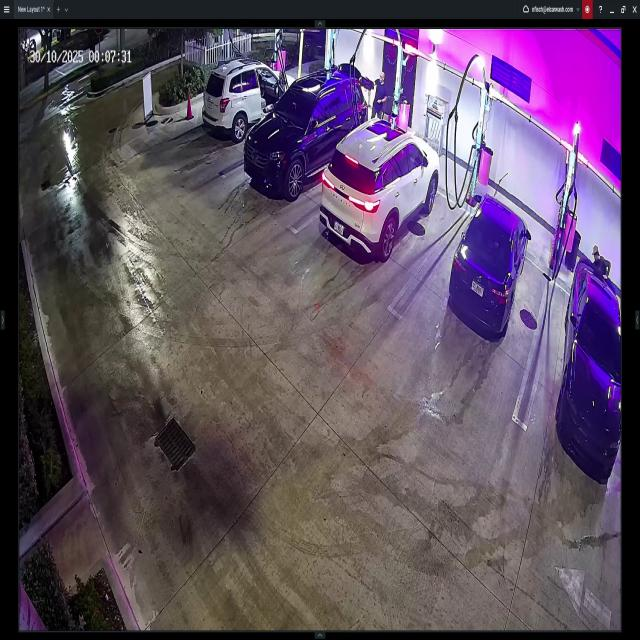Car: (322, 119, 440, 258), (243, 72, 369, 201), (557, 258, 622, 480), (448, 194, 530, 340), (202, 56, 297, 145)
